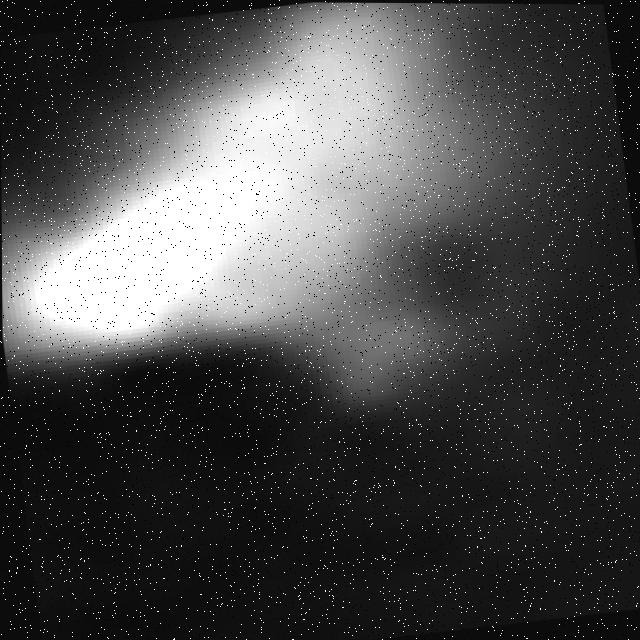person: (1, 1, 640, 441)
